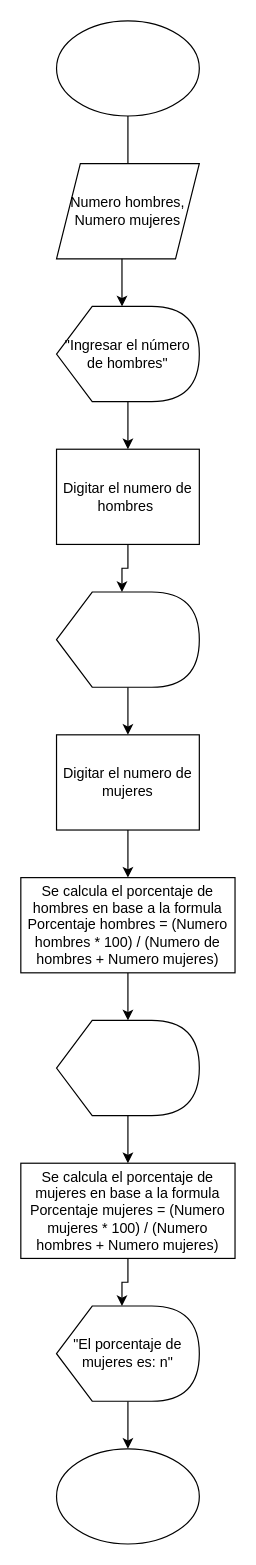
This 256x1565 diagram has some shape labels left out. Here are the shapes that lost their labels. From the top down, the centre of each, then its label:
point 127,68: Inicio
point 127,639: "Ingresa el numero de mujeres"
point 127,1067: "El porcentaje de hombres es: n"
point 127,1496: Fin
